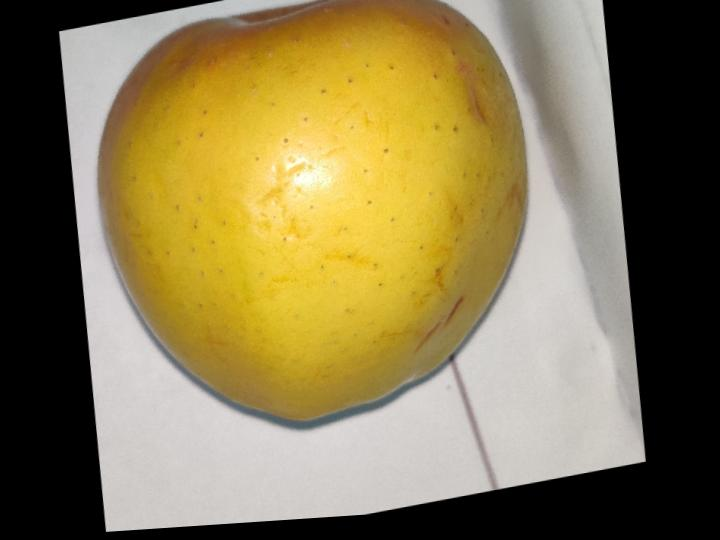apple: (98, 0, 525, 424)
surface_damage: (251, 160, 313, 243), (415, 321, 439, 351), (444, 296, 463, 326)
